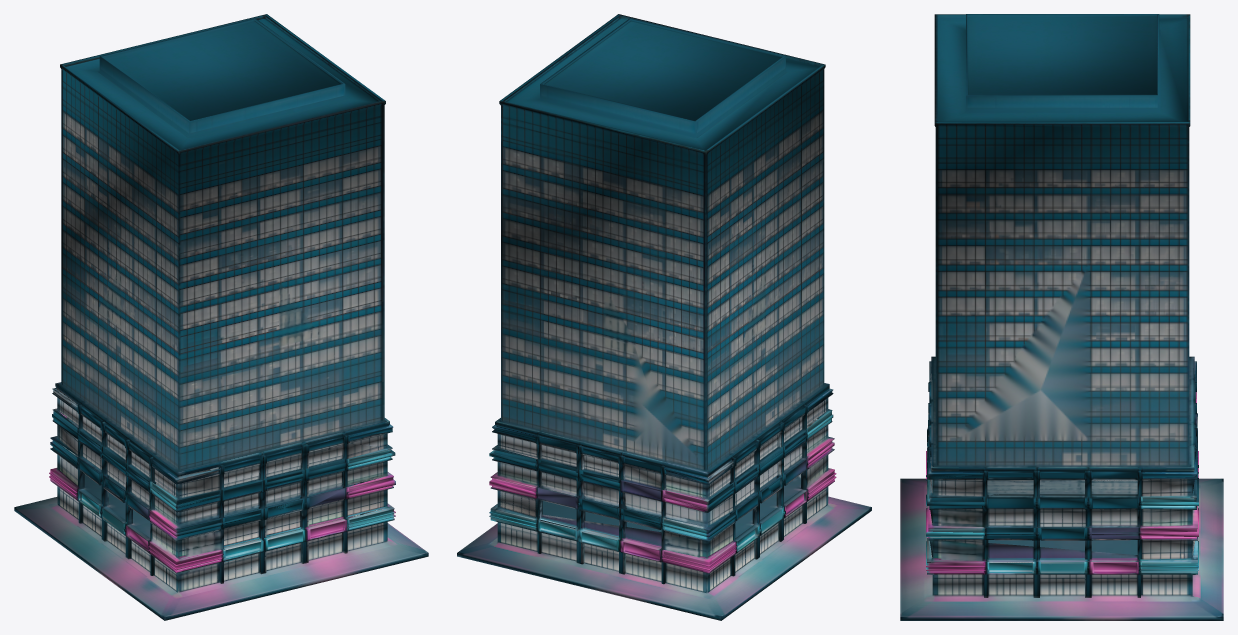
The model's file is bldg_highrise.glb.
3 renders of one model, left to right at view 1: azimuth 30°, elevation 25°; view 2: azimuth 150°, elevation 25°; view 3: azimuth 270°, elevation 25°, orthographic. The views are drawn at different scales.
Visible parts, largest first — view 1: tripo_node_3d6824d9-6328-4827-9c5a-7b8c72754fdb; view 2: tripo_node_3d6824d9-6328-4827-9c5a-7b8c72754fdb; view 3: tripo_node_3d6824d9-6328-4827-9c5a-7b8c72754fdb.
Boxes of the visible parts, x1,y1,x2,y2 form: tripo_node_3d6824d9-6328-4827-9c5a-7b8c72754fdb: [14, 14, 428, 620]; tripo_node_3d6824d9-6328-4827-9c5a-7b8c72754fdb: [457, 14, 871, 620]; tripo_node_3d6824d9-6328-4827-9c5a-7b8c72754fdb: [900, 14, 1223, 620].
Size of the model in its own units: 0.5957 by 0.998 by 0.5879.
Materials: 1 (1 with a texture image).
